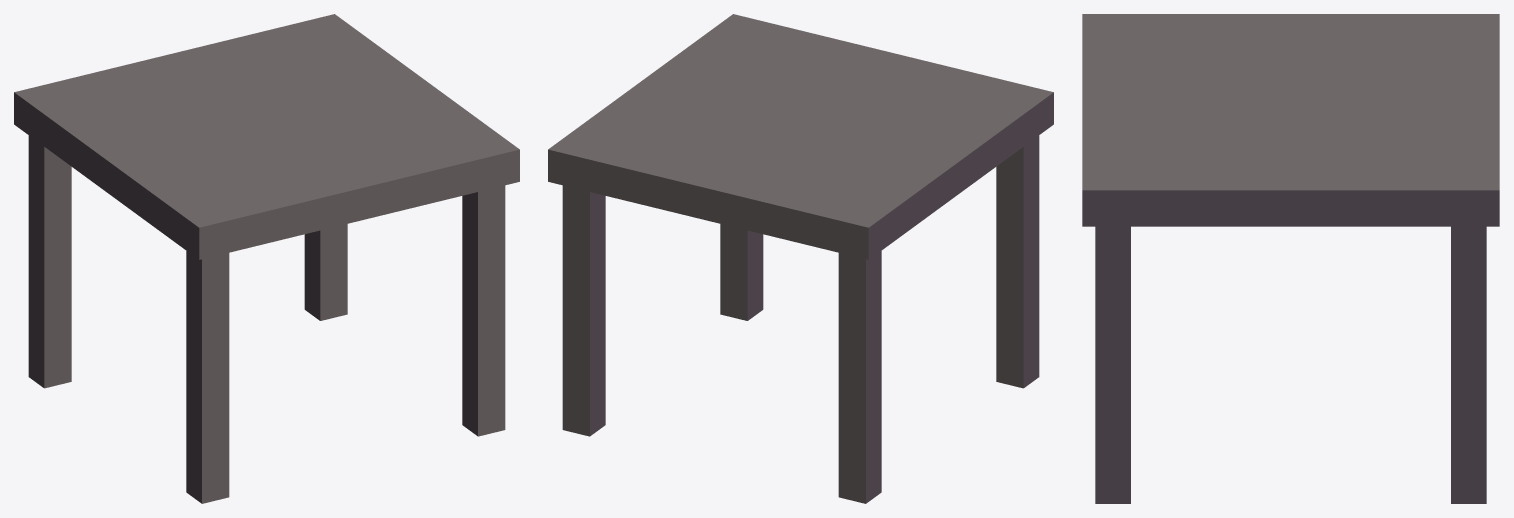
Rendered from Small Table.fbx.
3 views of the same model, side by side, from view 1: azimuth 30°, elevation 25°; view 2: azimuth 150°, elevation 25°; view 3: azimuth 270°, elevation 25° (orthographic). The views are drawn at different scales.
Visible parts, largest first — view 1: Small Table; view 2: Small Table; view 3: Small Table.
Boxes of the visible parts, x1=… form: Small Table: x1=14, y1=14, x2=519, y2=503; Small Table: x1=548, y1=14, x2=1053, y2=503; Small Table: x1=1082, y1=14, x2=1499, y2=503.
Size of the model in its own units: 107 by 90.15 by 107.
